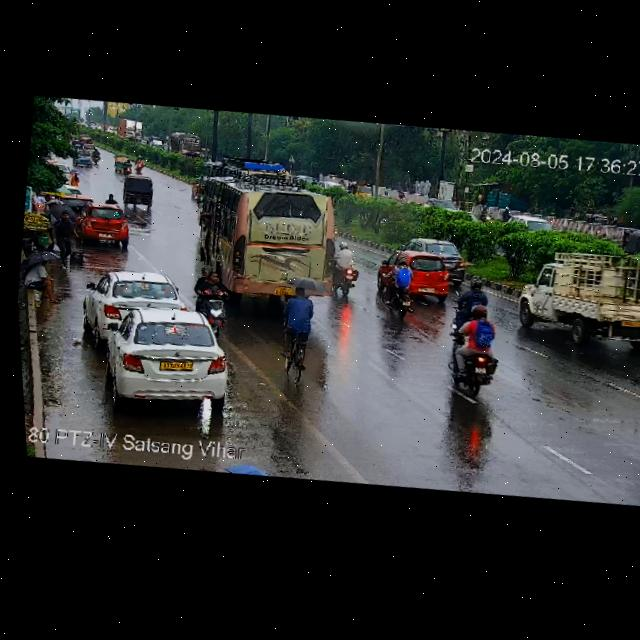bus: (176, 160, 351, 320)
car: (91, 297, 236, 415), (79, 262, 190, 341), (371, 242, 458, 305), (396, 232, 474, 290), (73, 203, 130, 248), (121, 172, 159, 210), (69, 146, 97, 171), (622, 221, 640, 257), (111, 152, 133, 173)
motorcycle: (436, 300, 508, 404), (185, 260, 237, 343), (380, 249, 421, 323), (325, 232, 368, 299), (449, 272, 493, 317), (478, 204, 493, 223), (134, 153, 147, 174), (89, 150, 103, 167), (122, 159, 136, 176), (501, 206, 512, 222)
person: (15, 246, 70, 308), (47, 209, 82, 268), (67, 169, 86, 187)
truck: (510, 241, 640, 364), (165, 127, 205, 159), (115, 115, 146, 144)
